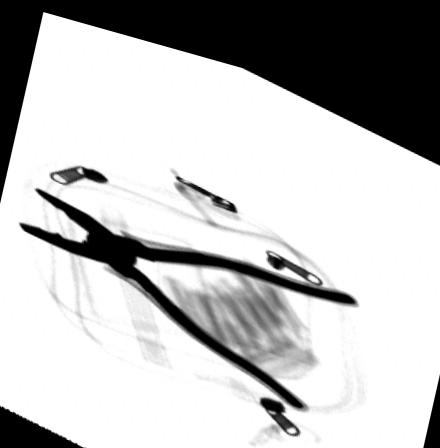Pliers: (18, 184, 360, 394)
